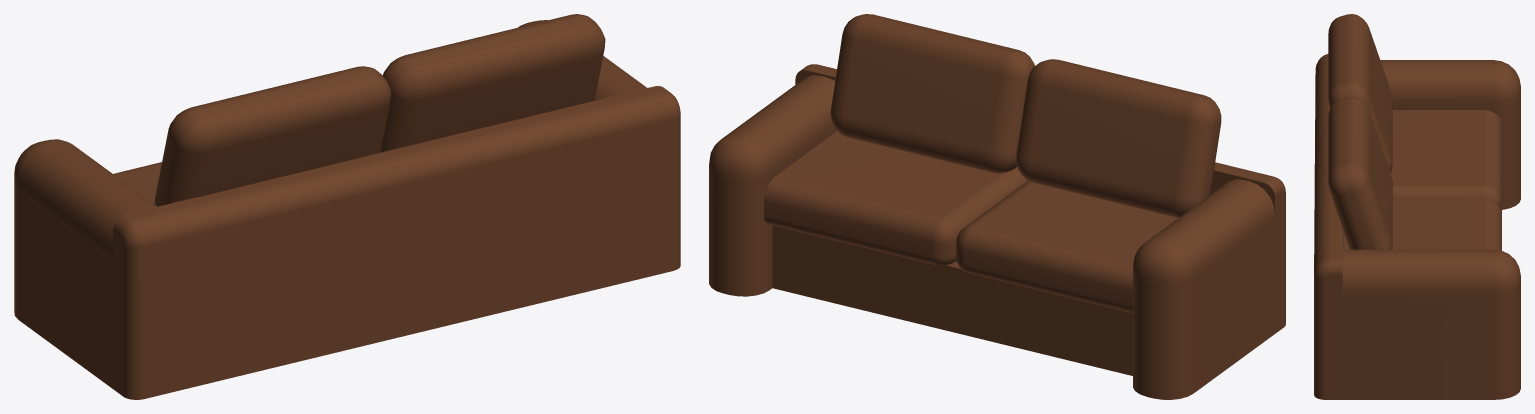
Rendered from Canape2_6.fbx.
The picture shows the model from 3 angles, left to right: view 1: azimuth 30°, elevation 25°; view 2: azimuth 150°, elevation 25°; view 3: azimuth 270°, elevation 25°; orthographic projection. The views are drawn at different scales.
Parts seen in each view (by area): view 1: pCube1068, pCube2538, pCube2535, pCube2534, pCube2533, pCube2523; view 2: pCube2538, pCube2535, pCube2534, pCube2539, pCube2522, pCube2523, pCube2533, pCube1068; view 3: pCube2533, pCube2523, pCube2538, pCube2534, pCube1068, pCube2522, pCube2535.
Part boxes in pixels (bbox=[...]): pCube1068: bbox=[113, 86, 680, 399]; pCube2538: bbox=[14, 139, 157, 388]; pCube2535: bbox=[154, 66, 391, 206]; pCube2534: bbox=[380, 14, 605, 152]; pCube2533: bbox=[518, 20, 646, 100]; pCube2523: bbox=[113, 162, 161, 203]; pCube2538: bbox=[1133, 179, 1274, 399]; pCube2535: bbox=[1016, 59, 1221, 217]; pCube2534: bbox=[830, 14, 1034, 173]; pCube2539: bbox=[772, 225, 1132, 375]; pCube2522: bbox=[764, 131, 1027, 265]; pCube2523: bbox=[956, 180, 1178, 313]; pCube2533: bbox=[709, 75, 836, 296]; pCube1068: bbox=[795, 64, 1285, 333]; pCube2533: bbox=[1342, 249, 1520, 399]; pCube2523: bbox=[1390, 110, 1501, 213]; pCube2538: bbox=[1380, 60, 1520, 209]; pCube2534: bbox=[1328, 96, 1392, 249]; pCube1068: bbox=[1314, 54, 1343, 399]; pCube2522: bbox=[1343, 198, 1501, 250]; pCube2535: bbox=[1328, 14, 1392, 172].
Size of the model in its own units: 167 by 73.88 by 68.22.
